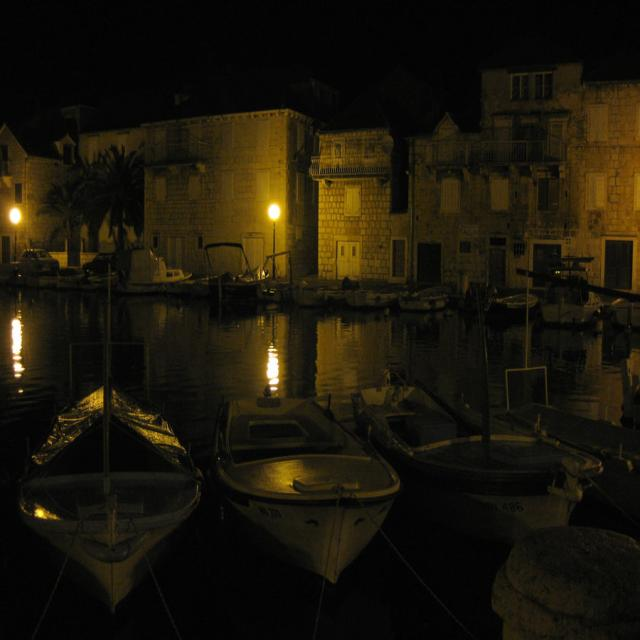Boat: (0, 382, 200, 631), (198, 369, 391, 573), (365, 376, 619, 509), (193, 239, 295, 335), (316, 252, 413, 330), (550, 259, 626, 327), (406, 280, 489, 336), (497, 263, 550, 350), (133, 240, 195, 308), (73, 246, 132, 301), (11, 241, 70, 291)
